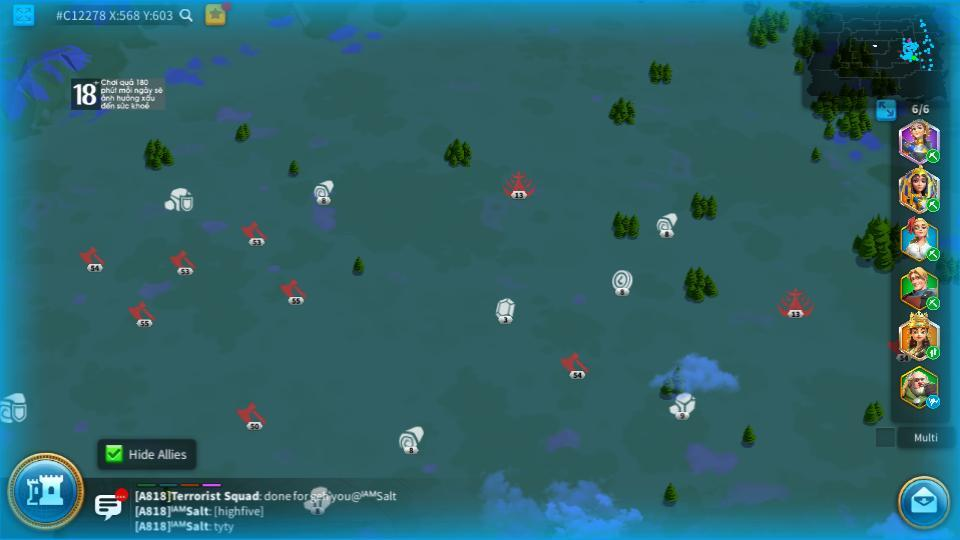gem-z-out: (493, 297, 516, 323)
march_farming: (924, 197, 939, 212), (924, 149, 939, 162), (925, 297, 941, 308), (926, 248, 940, 260)
march_idle: (925, 396, 942, 408)
march_marching: (925, 345, 941, 359)
